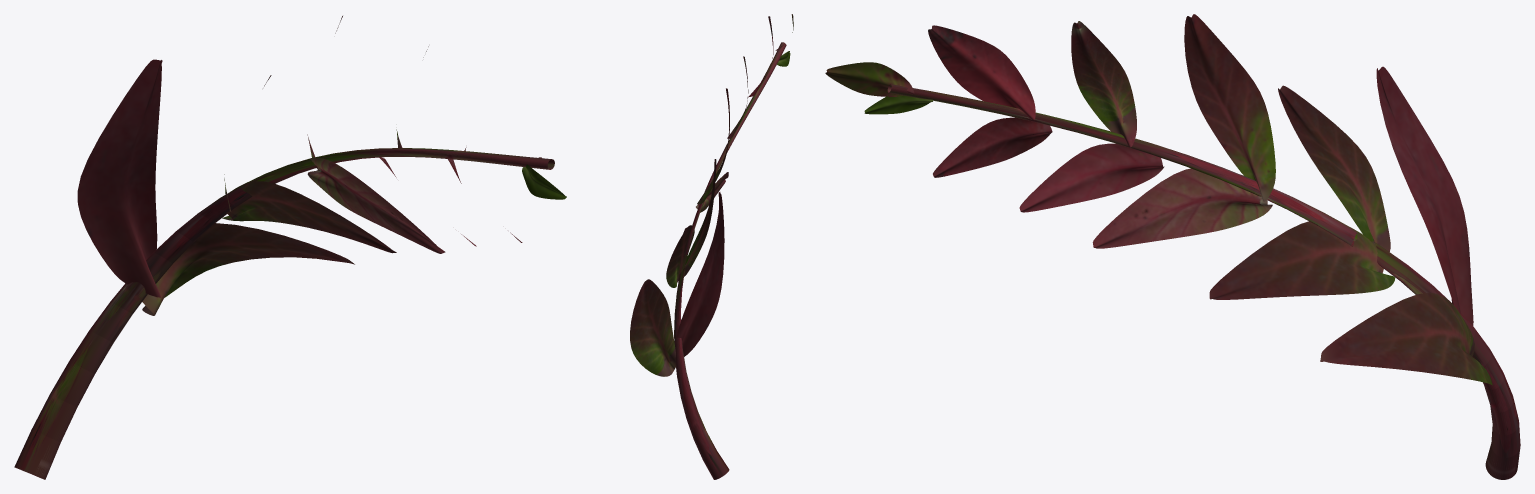
Rendered from plant.fbx.
The picture shows the model from 3 angles, left to right: view 1: azimuth 30°, elevation 25°; view 2: azimuth 150°, elevation 25°; view 3: azimuth 270°, elevation 25°; orthographic projection. The views are drawn at different scales.
Visible parts, largest first — view 1: Vert.030; view 2: Vert.030; view 3: Vert.030.
Part boxes in pixels (x1,y1,x2,y2): Vert.030: (14,16,566,479); Vert.030: (630,14,793,479); Vert.030: (825,14,1520,479).
Bounding box in the file's own units: 5.4 × 11.95 × 13.78.
